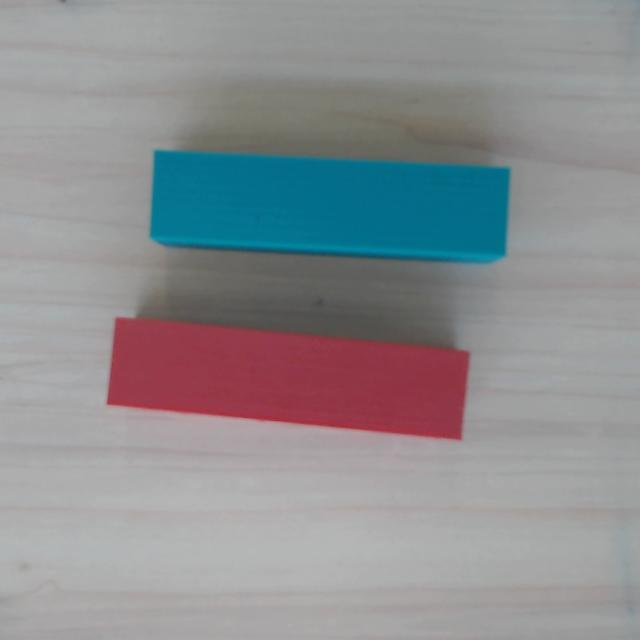Balok-Hijau-1002525: (149, 147, 510, 264)
Balok-Merah-1002525: (107, 316, 469, 440)
